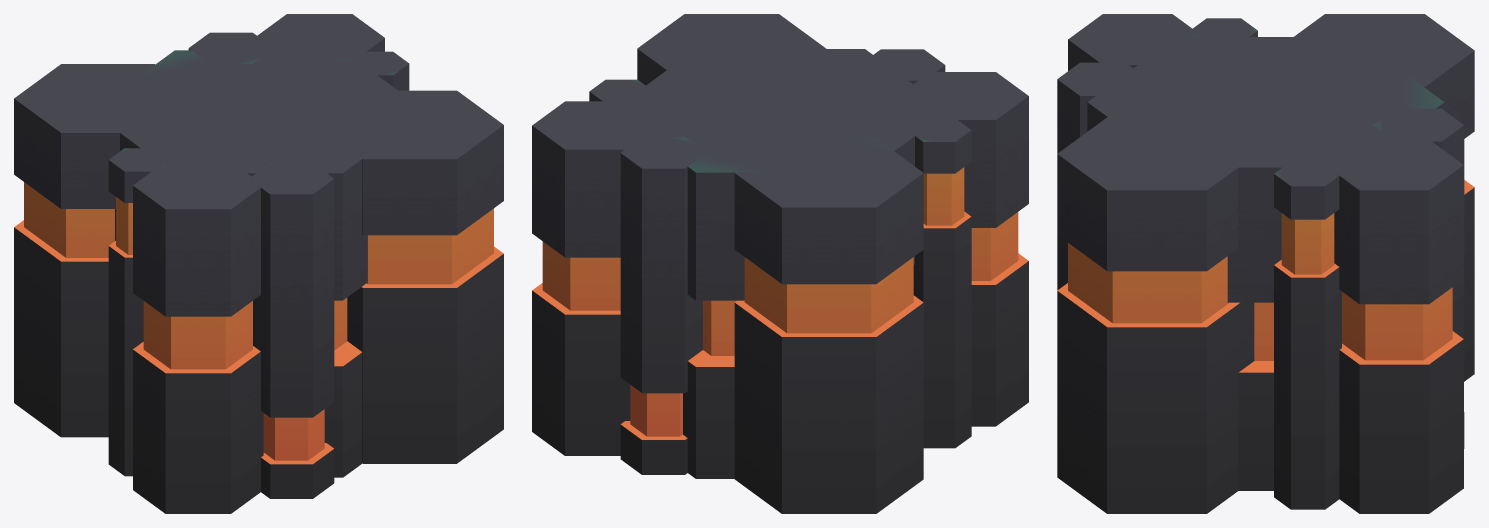
File: Fire-Rocky-Slab.fbx
3 views of the same model, side by side, from view 1: azimuth 30°, elevation 25°; view 2: azimuth 150°, elevation 25°; view 3: azimuth 270°, elevation 25° (orthographic). The views are drawn at different scales.
Visible parts, largest first — view 1: Rocky_Slab.001; view 2: Rocky_Slab.001; view 3: Rocky_Slab.001.
Boxes of the visible parts, x1,y1,x2,y2 form: Rocky_Slab.001: [14, 14, 503, 513]; Rocky_Slab.001: [532, 14, 1028, 513]; Rocky_Slab.001: [1057, 14, 1474, 513].
Bounding box in the file's own units: 1 × 0.8551 × 1.
